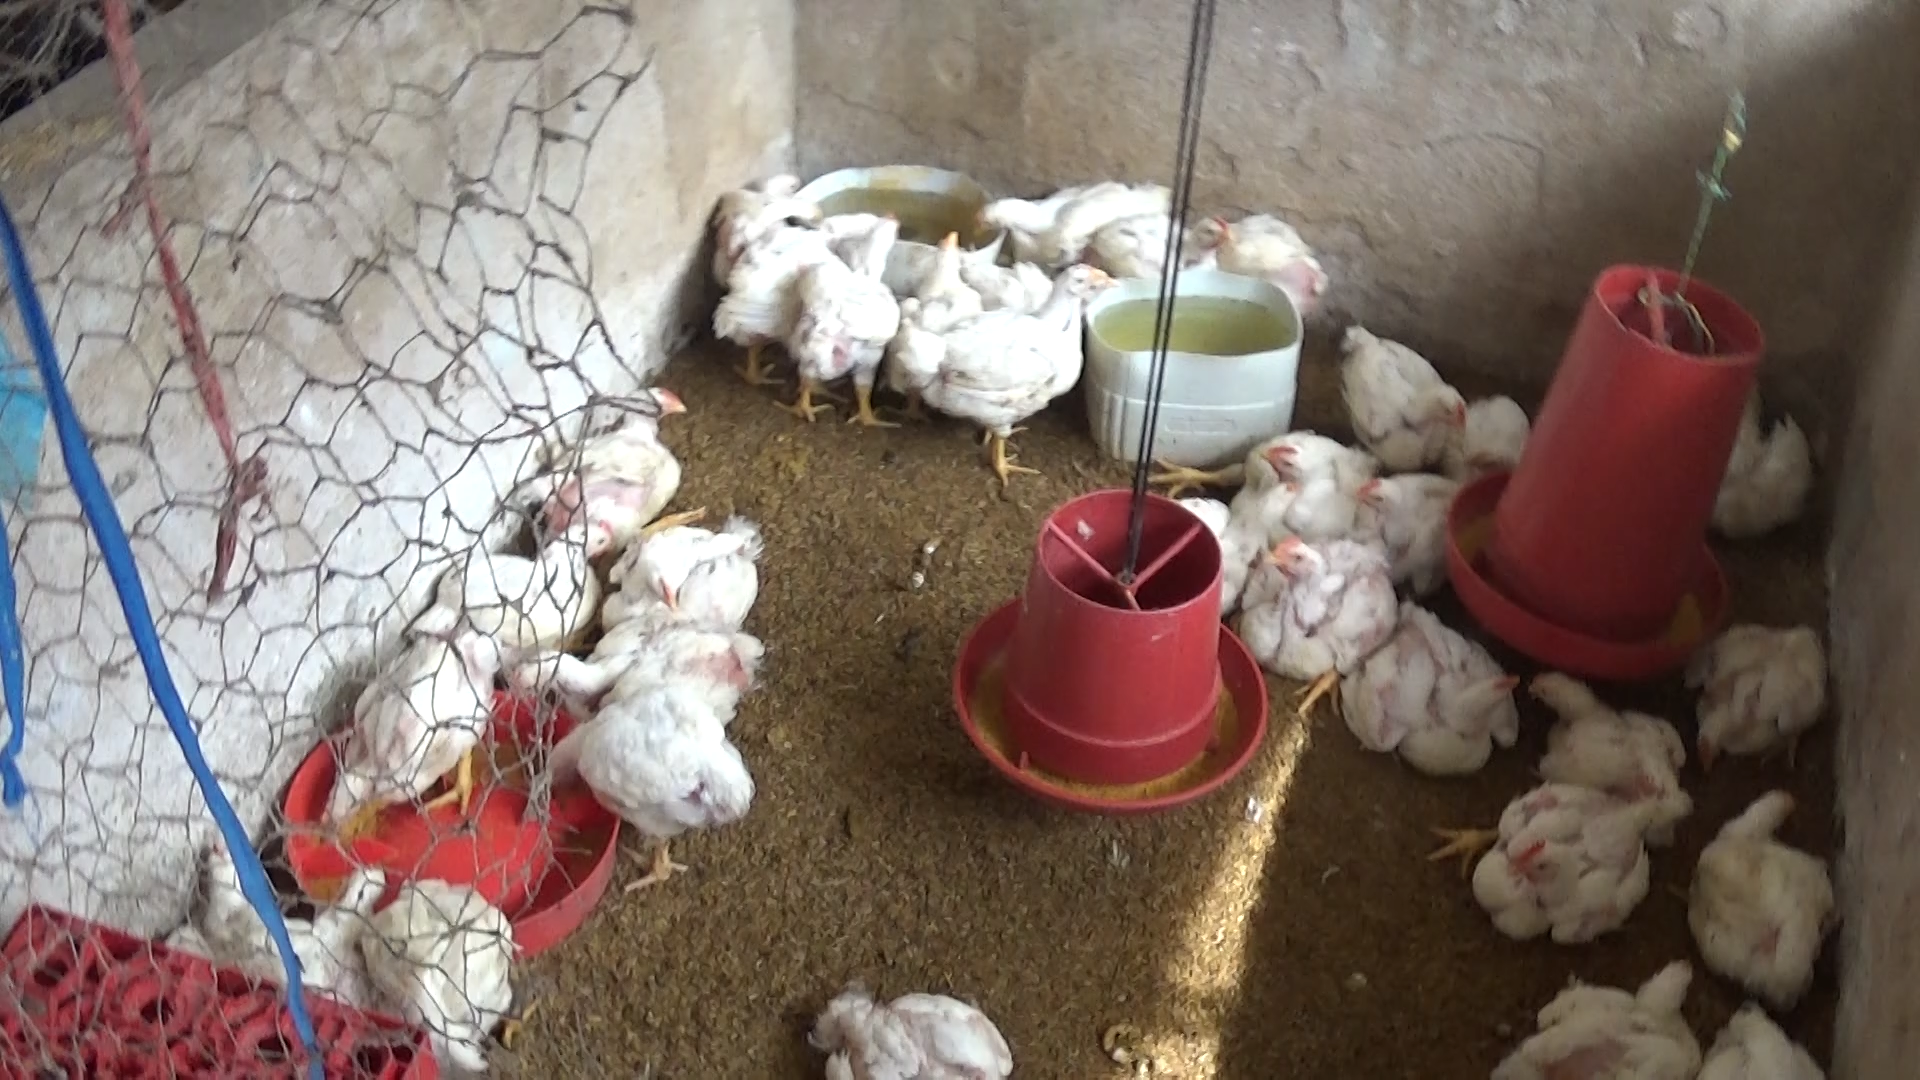Pollos: (884, 261, 1122, 485), (517, 687, 754, 909), (316, 633, 501, 847), (1677, 778, 1846, 1011), (1435, 771, 1663, 942), (1342, 583, 1524, 789), (711, 181, 878, 404), (1503, 642, 1689, 840), (1461, 949, 1721, 1080), (1233, 520, 1396, 717), (779, 202, 913, 444), (1138, 411, 1362, 550), (508, 608, 775, 717), (1663, 615, 1840, 771), (535, 382, 707, 533), (1335, 305, 1472, 472), (870, 223, 978, 427), (972, 171, 1174, 280), (607, 522, 782, 637), (1352, 455, 1472, 597), (1211, 189, 1327, 319), (1075, 204, 1240, 291)
